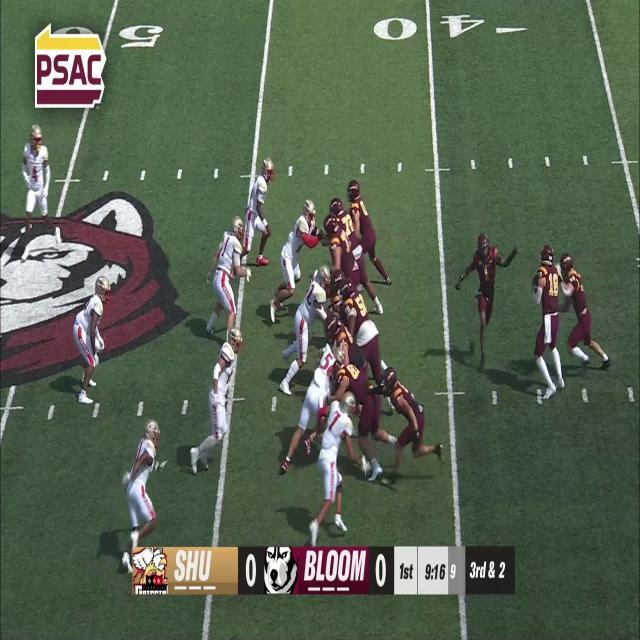football: (530, 271, 538, 291)
